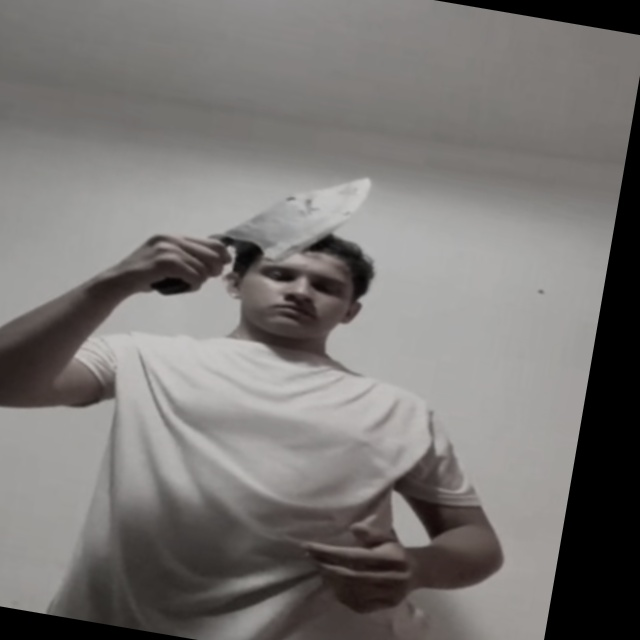Sharp-Object: (220, 155, 375, 269)
